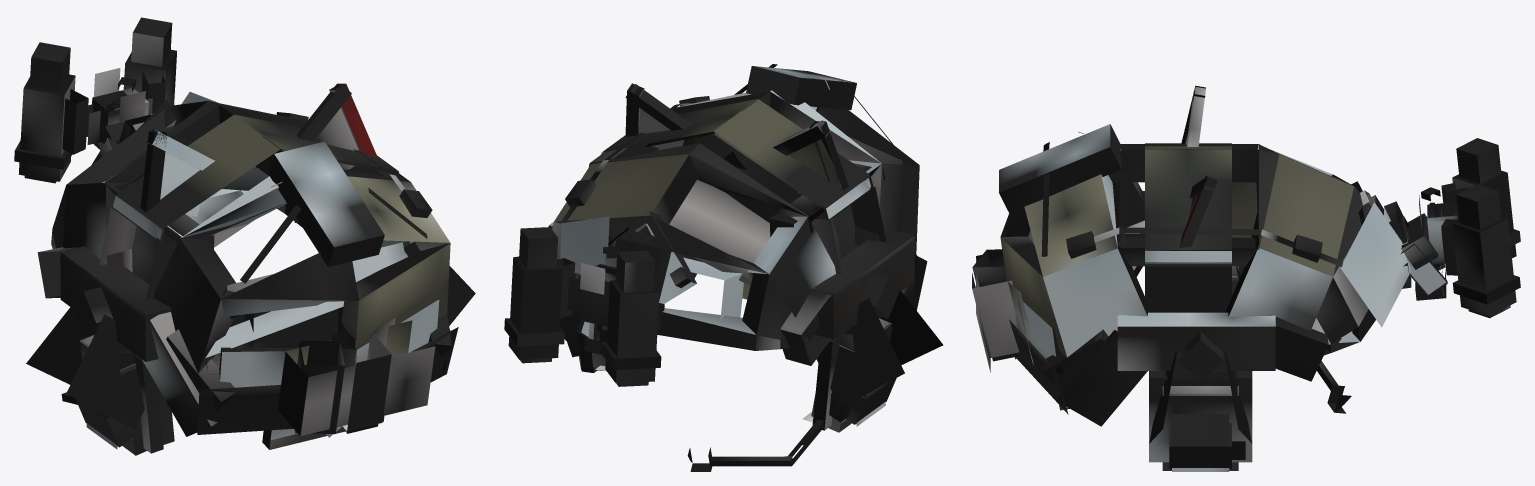
File: maid_h.obj
3 views of the same model, side by side, from view 1: azimuth 30°, elevation 25°; view 2: azimuth 150°, elevation 25°; view 3: azimuth 270°, elevation 25° (orthographic). The views are drawn at different scales.
Visible parts, largest first — view 1: plane; view 2: plane; view 3: plane.
Part boxes in pixels (left/top/right/bottom): plane: left=14, top=17, right=475, bottom=455; plane: left=504, top=64, right=943, bottom=471; plane: left=972, top=85, right=1520, bottom=471.
Bounding box in the file's own units: 1.01 × 0.8532 × 1.26.
